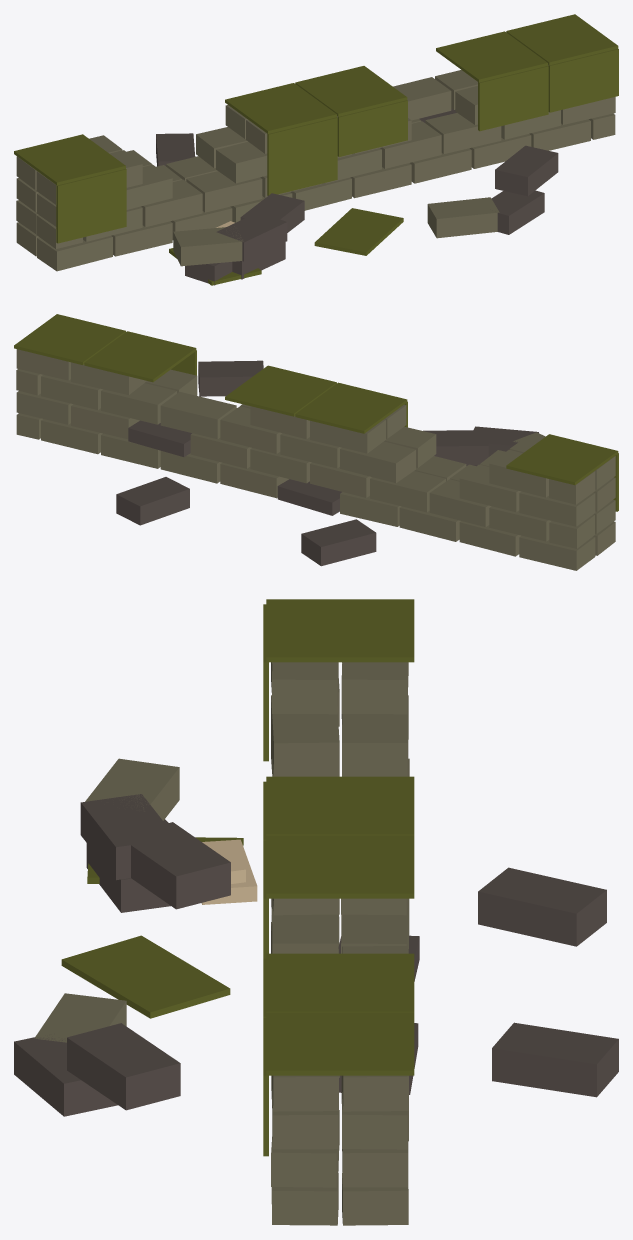
Rendered from SM_MuroSacos_v4_Red_e1_Danado_LOD0.fbx.
The picture shows the model from 3 angles, top to bottom: view 1: azimuth 30°, elevation 25°; view 2: azimuth 150°, elevation 25°; view 3: azimuth 270°, elevation 25°; orthographic projection. The views are drawn at different scales.
Visible parts, largest first — view 1: SM_bloques.muro_sacos_estados_v17_LOD0; view 2: SM_bloques.muro_sacos_estados_v17_LOD0; view 3: SM_bloques.muro_sacos_estados_v17_LOD0.
Boxes of the visible parts, left/top/right/bottom form: SM_bloques.muro_sacos_estados_v17_LOD0: left=14, top=14, right=618, bottom=285; SM_bloques.muro_sacos_estados_v17_LOD0: left=14, top=314, right=618, bottom=570; SM_bloques.muro_sacos_estados_v17_LOD0: left=14, top=599, right=618, bottom=1225.
Bounding box in the file's own units: 7.98 × 1.24 × 4.33.
